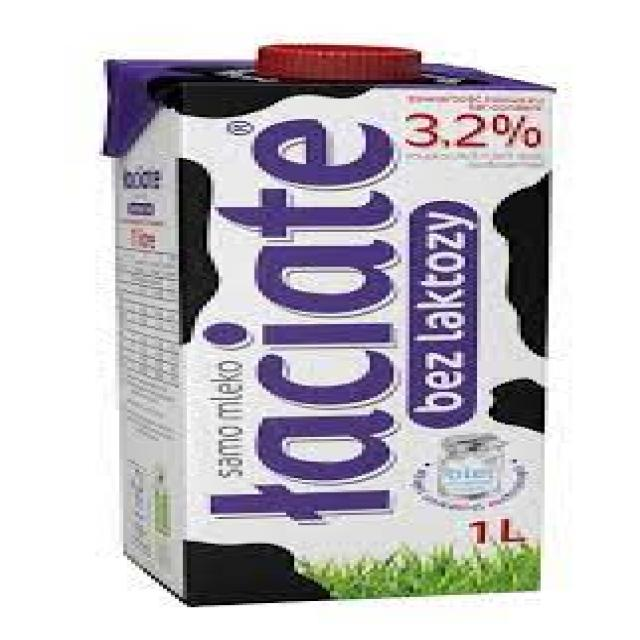non_white_jug: (74, 20, 575, 620)
